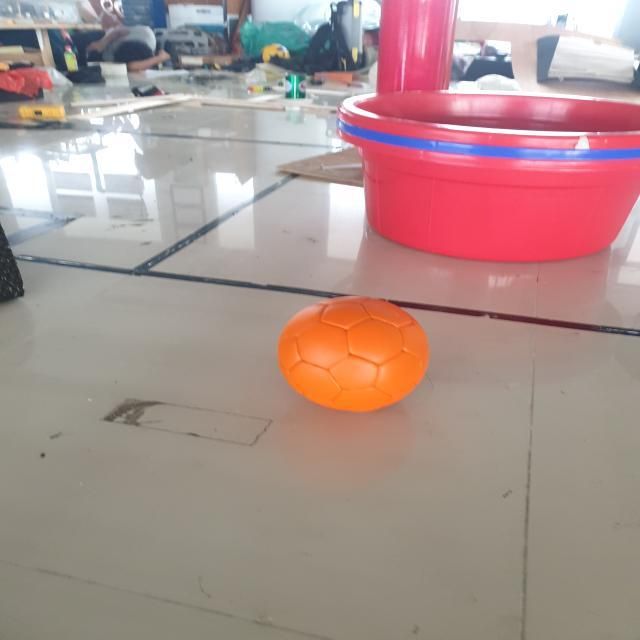bola: (270, 290, 437, 420)
